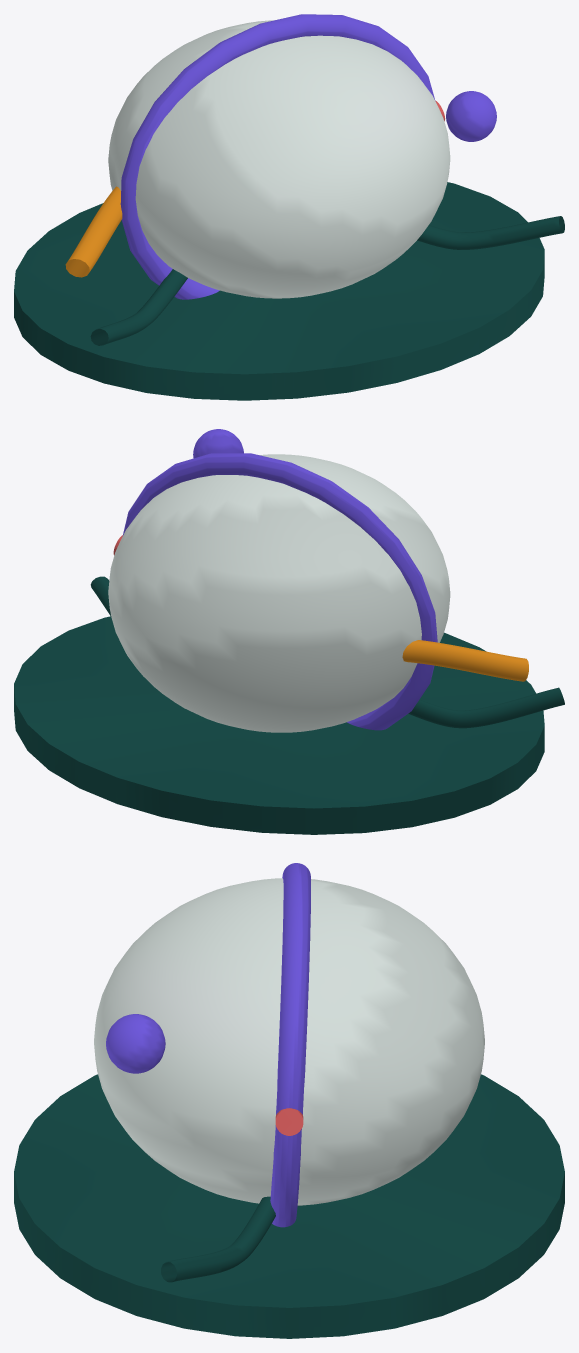
File: 1232_细胞图鉴_原核细胞.glb
3 renders of one model, top to bottom at view 1: azimuth 30°, elevation 25°; view 2: azimuth 150°, elevation 25°; view 3: azimuth 270°, elevation 25°, orthographic. The views are drawn at different scales.
Parts seen in each view (by area): view 1: card_1232; view 2: card_1232; view 3: card_1232.
Part boxes in pixels (bbox=[...]): card_1232: bbox=[14, 14, 564, 400]; card_1232: bbox=[14, 429, 564, 834]; card_1232: bbox=[14, 863, 564, 1338].
Size of the model in its own units: 1.79 by 1 by 1.53.
